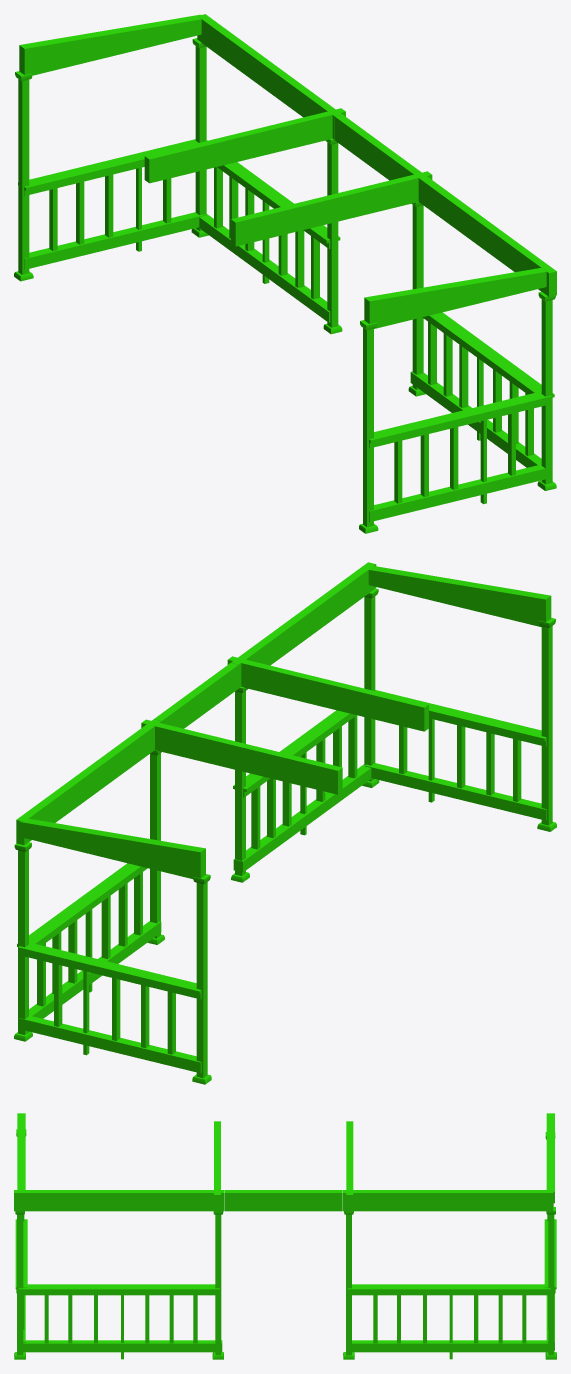
File: Front_01_D.fbx
The picture shows the model from 3 angles, top to bottom: view 1: azimuth 30°, elevation 25°; view 2: azimuth 150°, elevation 25°; view 3: azimuth 270°, elevation 25°; orthographic projection. The views are drawn at different scales.
Visible parts, largest first — view 1: Front_01_D; view 2: Front_01_D; view 3: Front_01_D.
Boxes of the visible parts, <box> form: Front_01_D: <box>14,14,556,533</box>; Front_01_D: <box>14,562,556,1084</box>; Front_01_D: <box>14,1113,556,1359</box>.
Size of the model in its own units: 257 by 290 by 802.
